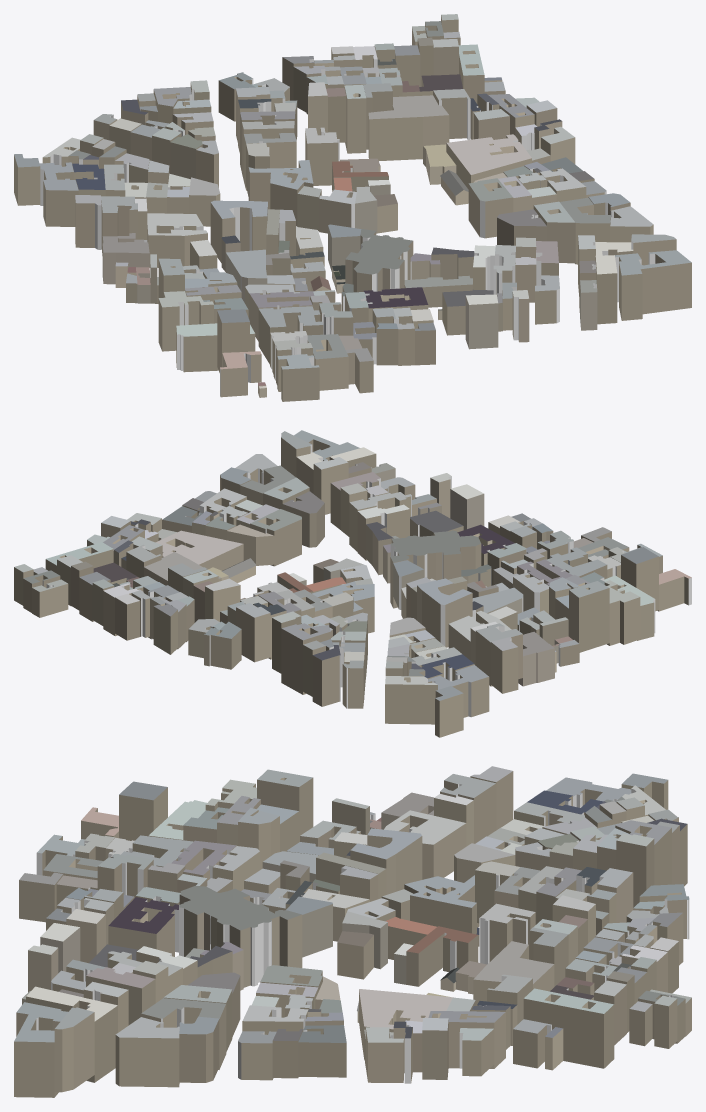
The picture shows the model from 3 angles, top to bottom: view 1: azimuth 30°, elevation 25°; view 2: azimuth 150°, elevation 25°; view 3: azimuth 270°, elevation 25°; orthographic projection. The views are drawn at different scales.
Parts seen in each view (by area): view 1: tuile; view 2: tuile; view 3: tuile.
Boxes of the visible parts, x1=… form: tuile: x1=14, y1=14, x2=691, y2=401; tuile: x1=14, y1=430, x2=691, y2=737; tuile: x1=14, y1=766, x2=691, y2=1097.
Bounding box in the file's own units: 265 × 55.49 × 268.
